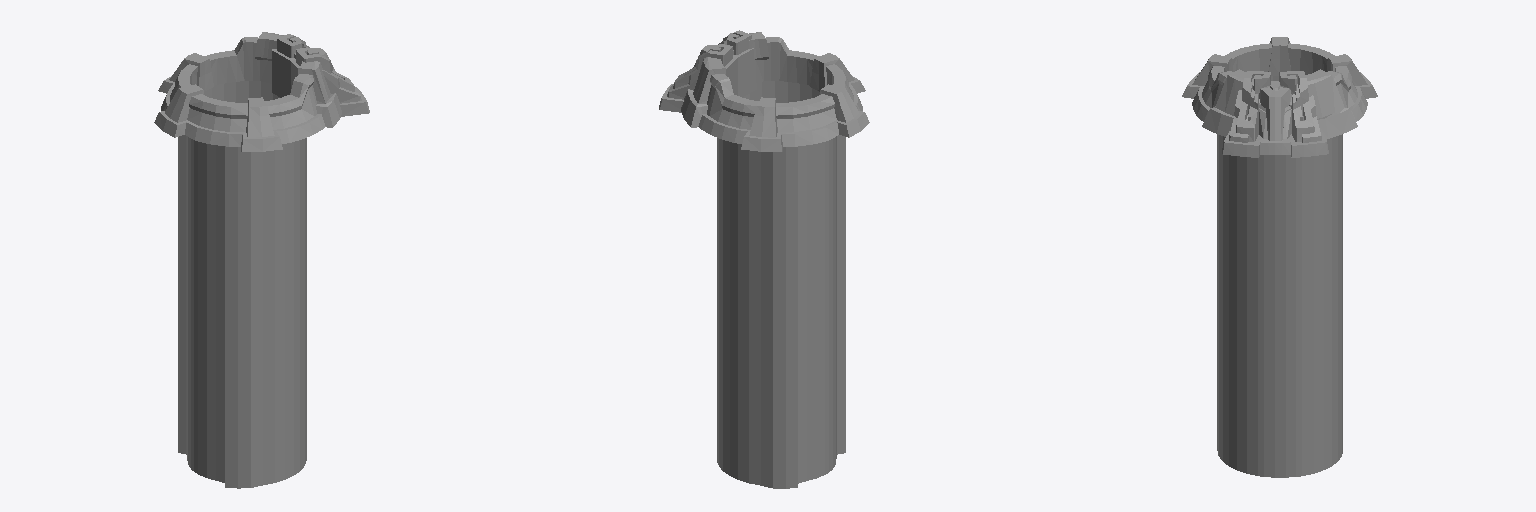
Rendered from order_inhibitor_rubble.obj.
3 views of the same model, side by side, from view 1: azimuth 30°, elevation 25°; view 2: azimuth 150°, elevation 25°; view 3: azimuth 270°, elevation 25° (orthographic).
Visible parts, largest first — view 1: lolMesh_sruap_orderinhibitor_rubble; view 2: lolMesh_sruap_orderinhibitor_rubble; view 3: lolMesh_sruap_orderinhibitor_rubble.
Part boxes in pixels (x1,y1,x2,y2): lolMesh_sruap_orderinhibitor_rubble: (154, 32, 369, 488); lolMesh_sruap_orderinhibitor_rubble: (659, 30, 869, 488); lolMesh_sruap_orderinhibitor_rubble: (1182, 37, 1377, 477).
Bounding box in the file's own units: 4.47 × 9.21 × 4.09.